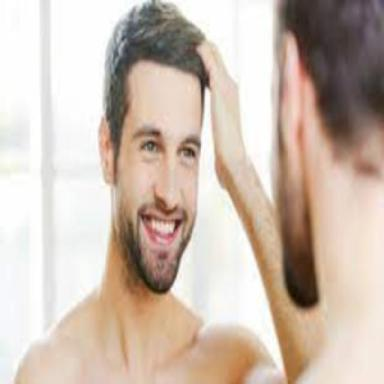normal skin: (16, 283, 260, 384), (100, 61, 202, 224)
